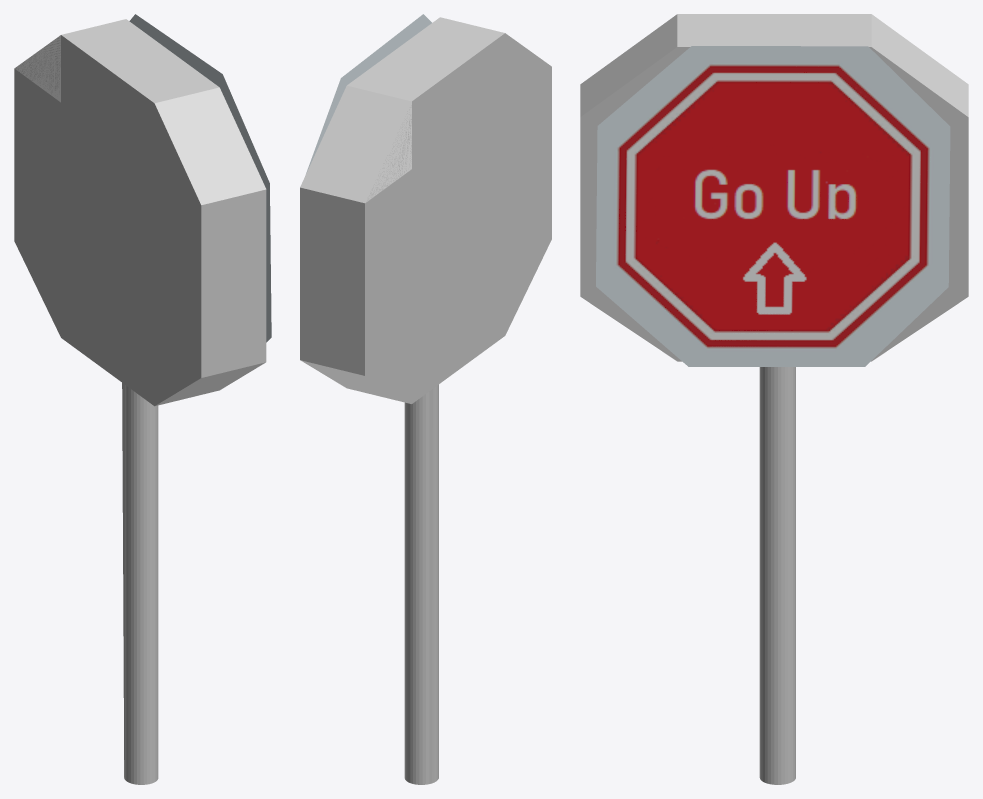
The model's file is Semn up.fbx.
3 views of the same model, side by side, from view 1: azimuth 30°, elevation 25°; view 2: azimuth 150°, elevation 25°; view 3: azimuth 270°, elevation 25° (orthographic). The views are drawn at different scales.
Visible parts, largest first — view 1: Cylinder, Plane; view 2: Cylinder, Plane; view 3: Plane, Cylinder.
Boxes of the visible parts, bbox=[...] form: Cylinder: bbox=[14, 19, 266, 784]; Plane: bbox=[129, 14, 271, 342]; Cylinder: bbox=[300, 17, 551, 784]; Plane: bbox=[306, 14, 431, 173]; Plane: bbox=[596, 46, 950, 366]; Cylinder: bbox=[580, 14, 968, 784].
Bounding box in the file's own units: 292 × 2598 × 1216.
2 materials, 1 textured.
